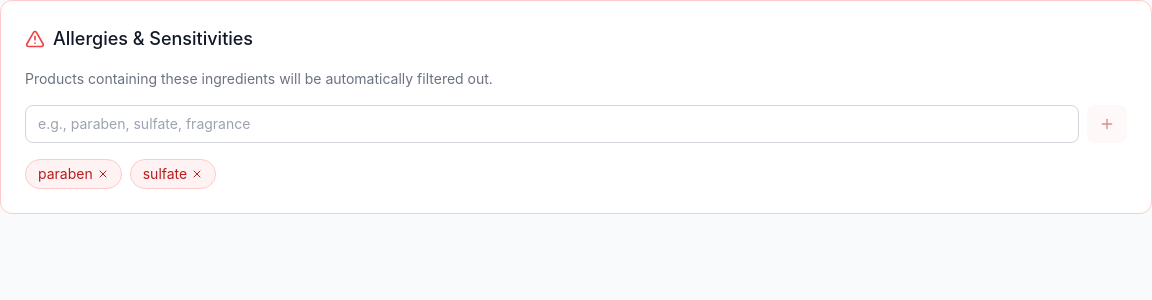
Test case: AllergyManager › shows Save button when allergies are modified
Type "niacinamide" into the field with placeholder "e.g., paraben, sulfate, fragrance" at (552,124), box [25, 105, 1079, 143]
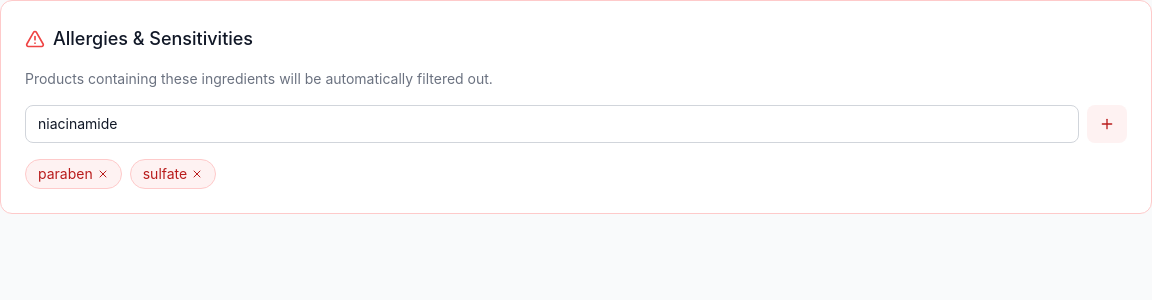
Press Enter in the field with placeholder "e.g., paraben, sulfate, fragrance", box [25, 105, 1079, 143]
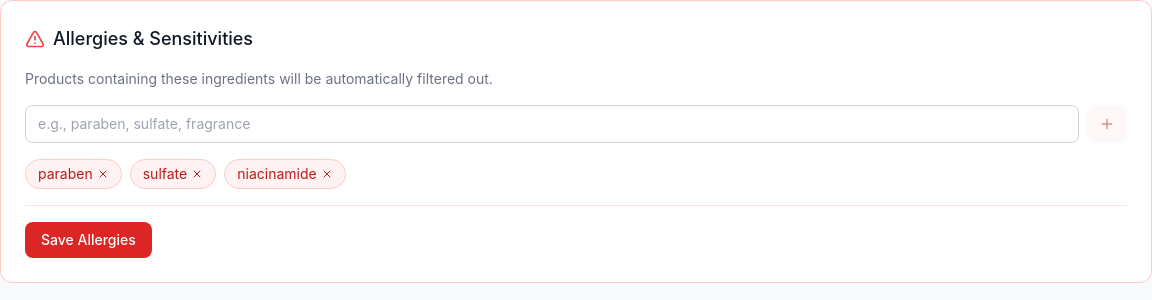
Check: the button "Save Allergies" is shown, box [25, 222, 152, 258]
